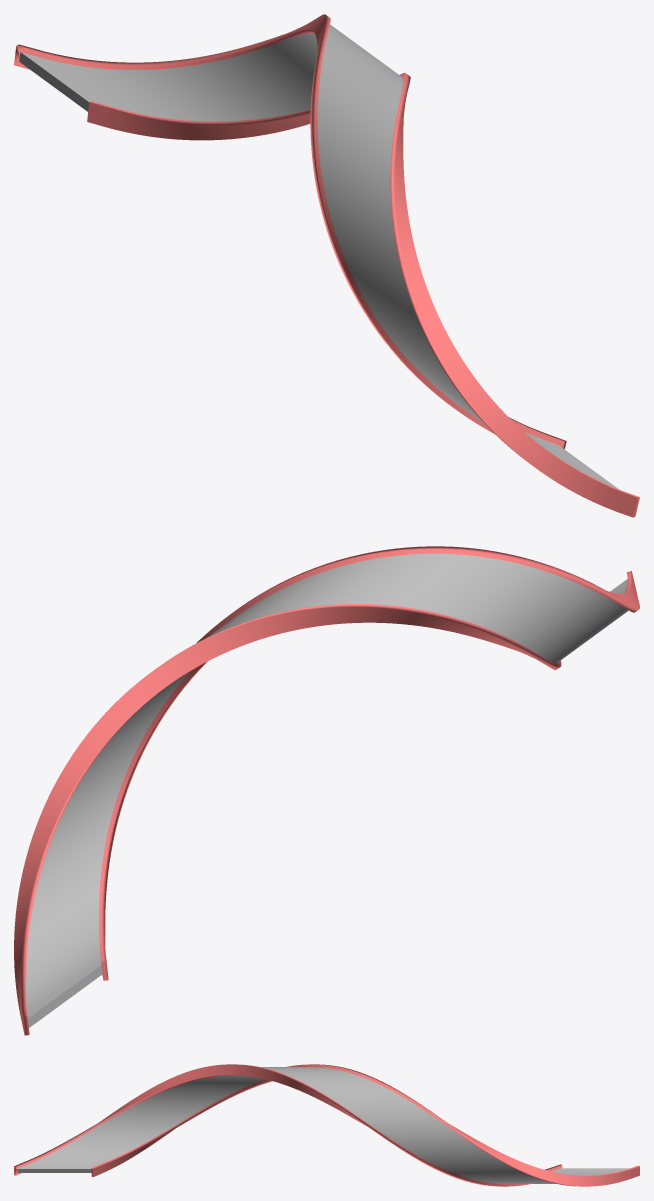
File: CorkScrew_Wall.fbx
The picture shows the model from 3 angles, top to bottom: view 1: azimuth 30°, elevation 25°; view 2: azimuth 150°, elevation 25°; view 3: azimuth 270°, elevation 25°; orthographic projection. The views are drawn at different scales.
Visible parts, largest first — view 1: Corkscrew Wall; view 2: Corkscrew Wall; view 3: Corkscrew Wall.
Boxes of the visible parts, bbox=[...] form: Corkscrew Wall: bbox=[14, 14, 639, 517]; Corkscrew Wall: bbox=[14, 546, 639, 1035]; Corkscrew Wall: bbox=[14, 1064, 639, 1186].
Bounding box in the file's own units: 8894 × 8894 × 45580.
